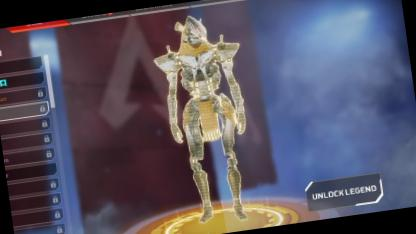Target: (148, 6, 264, 205)
